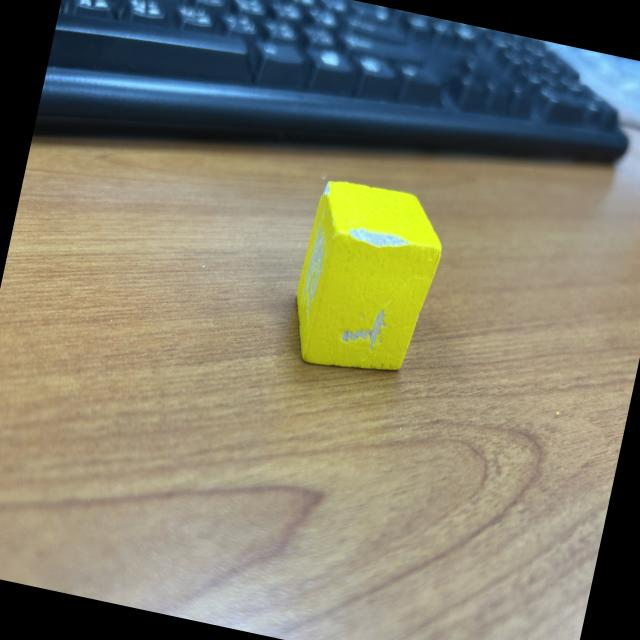broken: (281, 174, 453, 386)
